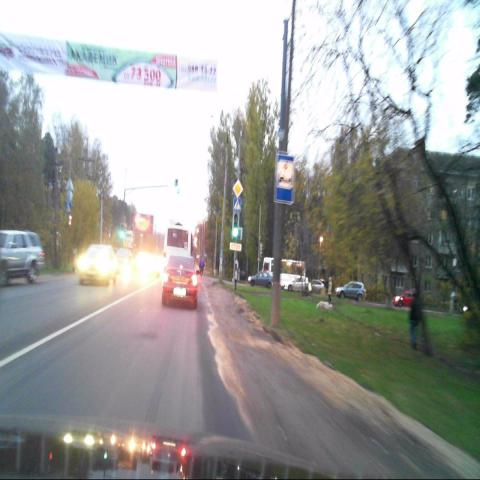7_2: (274, 155, 294, 203)
